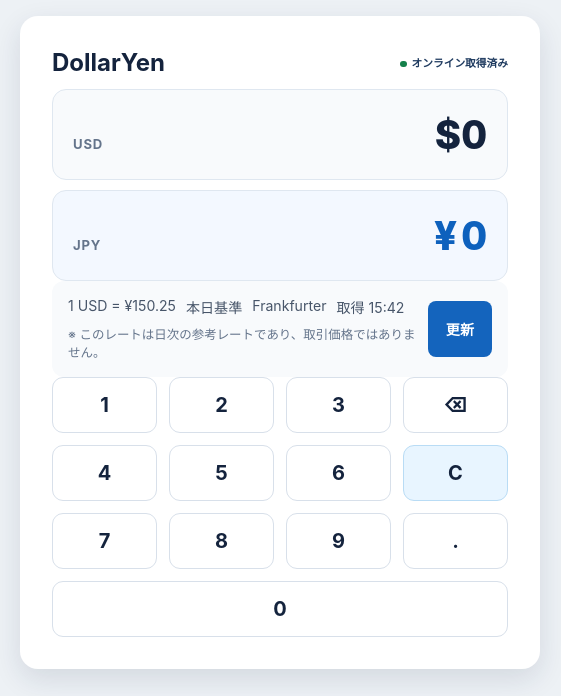
Scenario: backspace and clear restore the displayed amount
The image size is (561, 696).
Click the button "1".
click(104, 405)  # box left=52, top=377, right=157, bottom=433
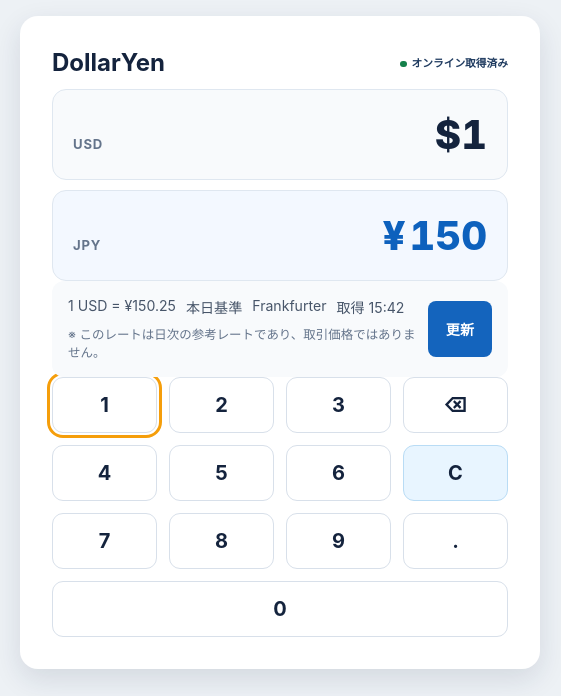
Click the button "2".
click(222, 405)  # box left=169, top=377, right=274, bottom=433
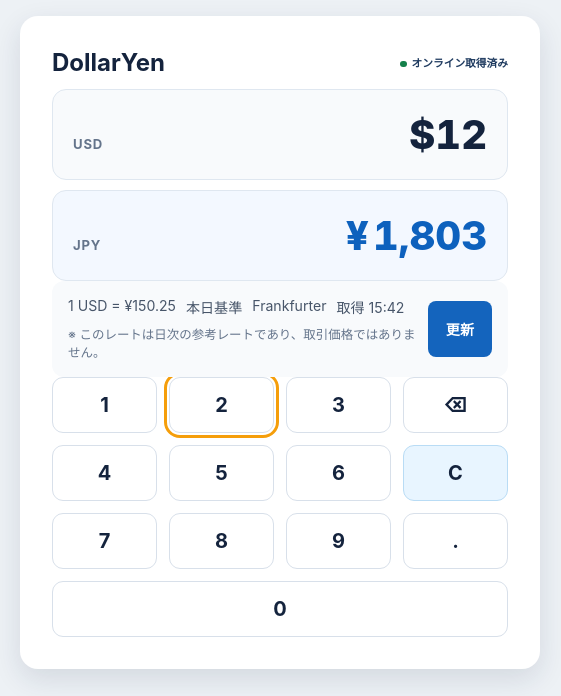
Click the button named "1文字削除".
click(456, 405)  # box left=403, top=377, right=508, bottom=433
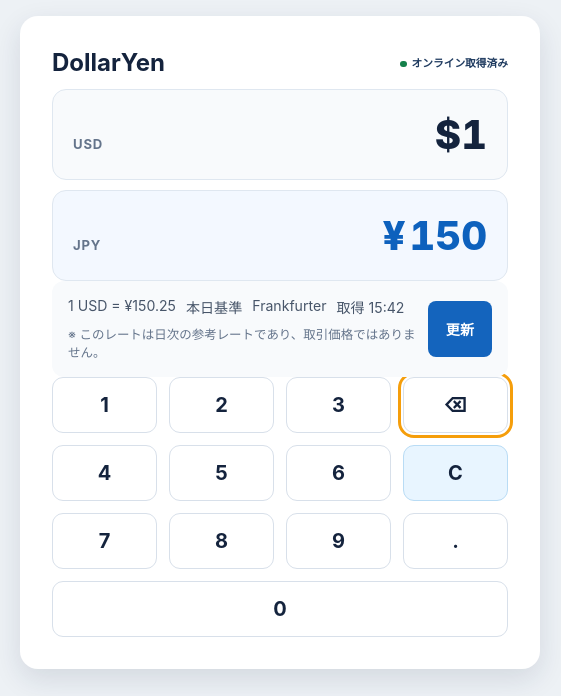
Result: the text named "米ドル金額" reads "$1" at left=435, top=110, right=487, bottom=159
Click the button named "クリア".
click(456, 473)  # box left=403, top=445, right=508, bottom=501
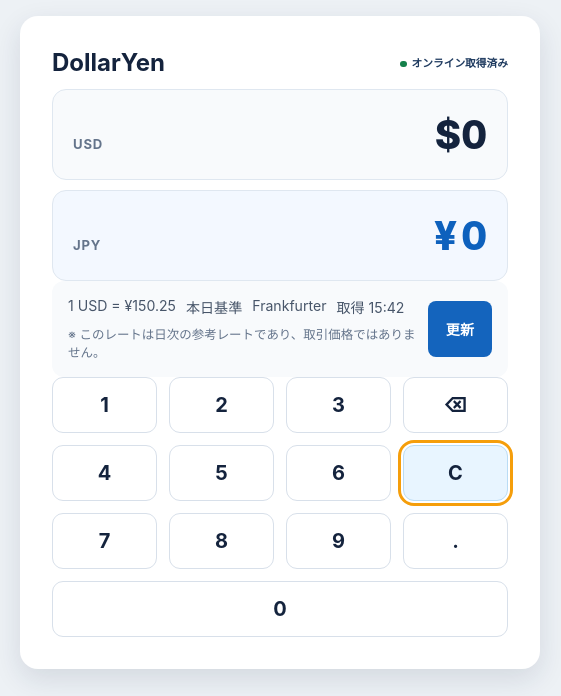
Result: the text named "米ドル金額" reads "$0" at left=435, top=110, right=487, bottom=159
